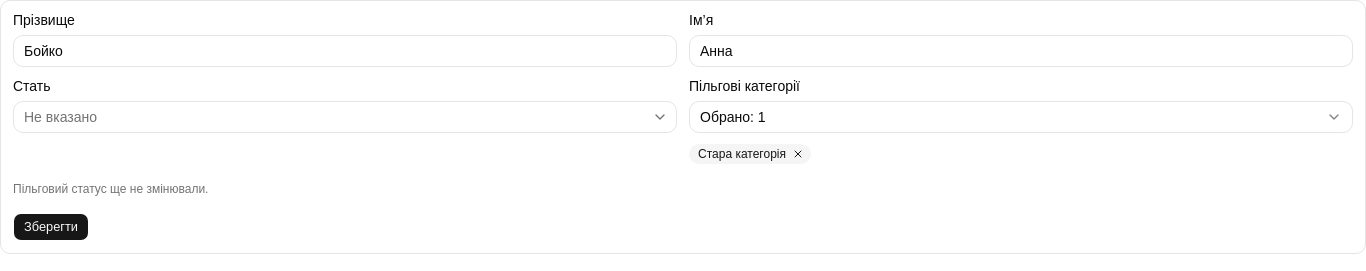
Test: профіль учня › стоїть вимкнена категорія — її видно
Check: the text "Стара категорія" is shown, box [689,144,811,164]
Click the button named "Пільгові категорії".
click(733, 117)  # box [689,101,1353,133]
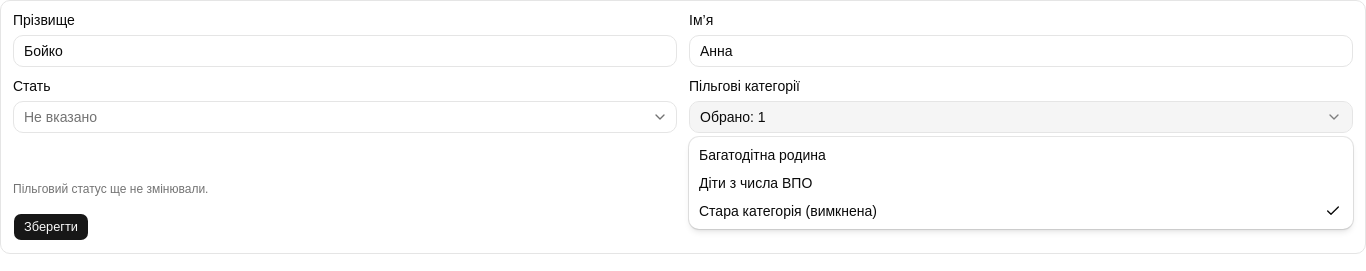
Check: the menu item "Стара категорія (вимкнена)" is shown, box [699,203,1341,219]
